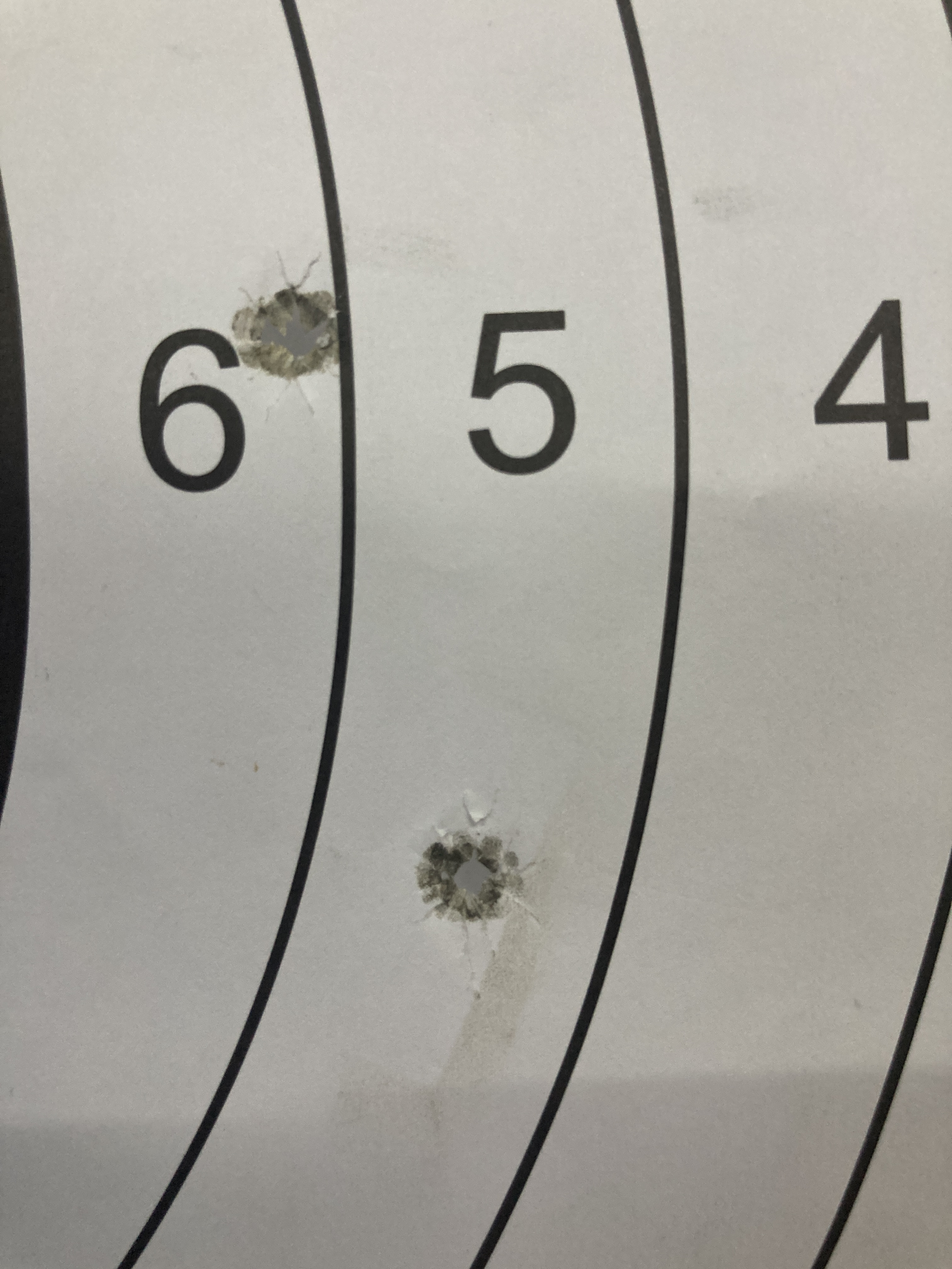hole: (387, 799, 554, 957), (224, 271, 365, 403)
